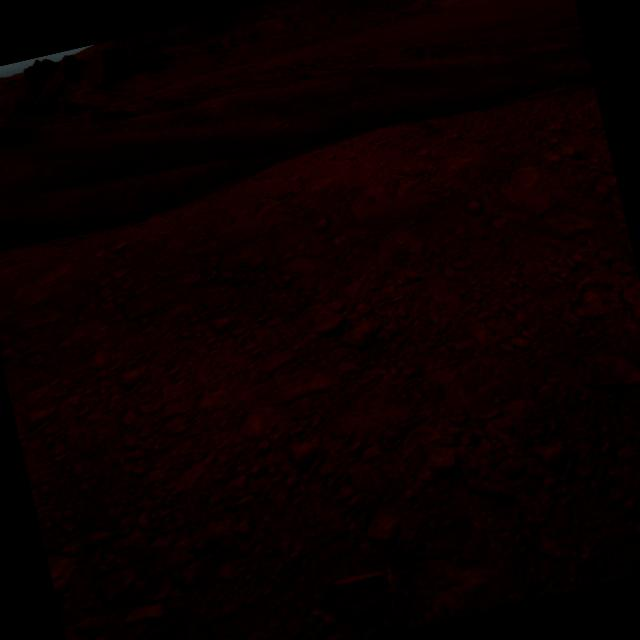newhammer: (330, 556, 393, 595)
